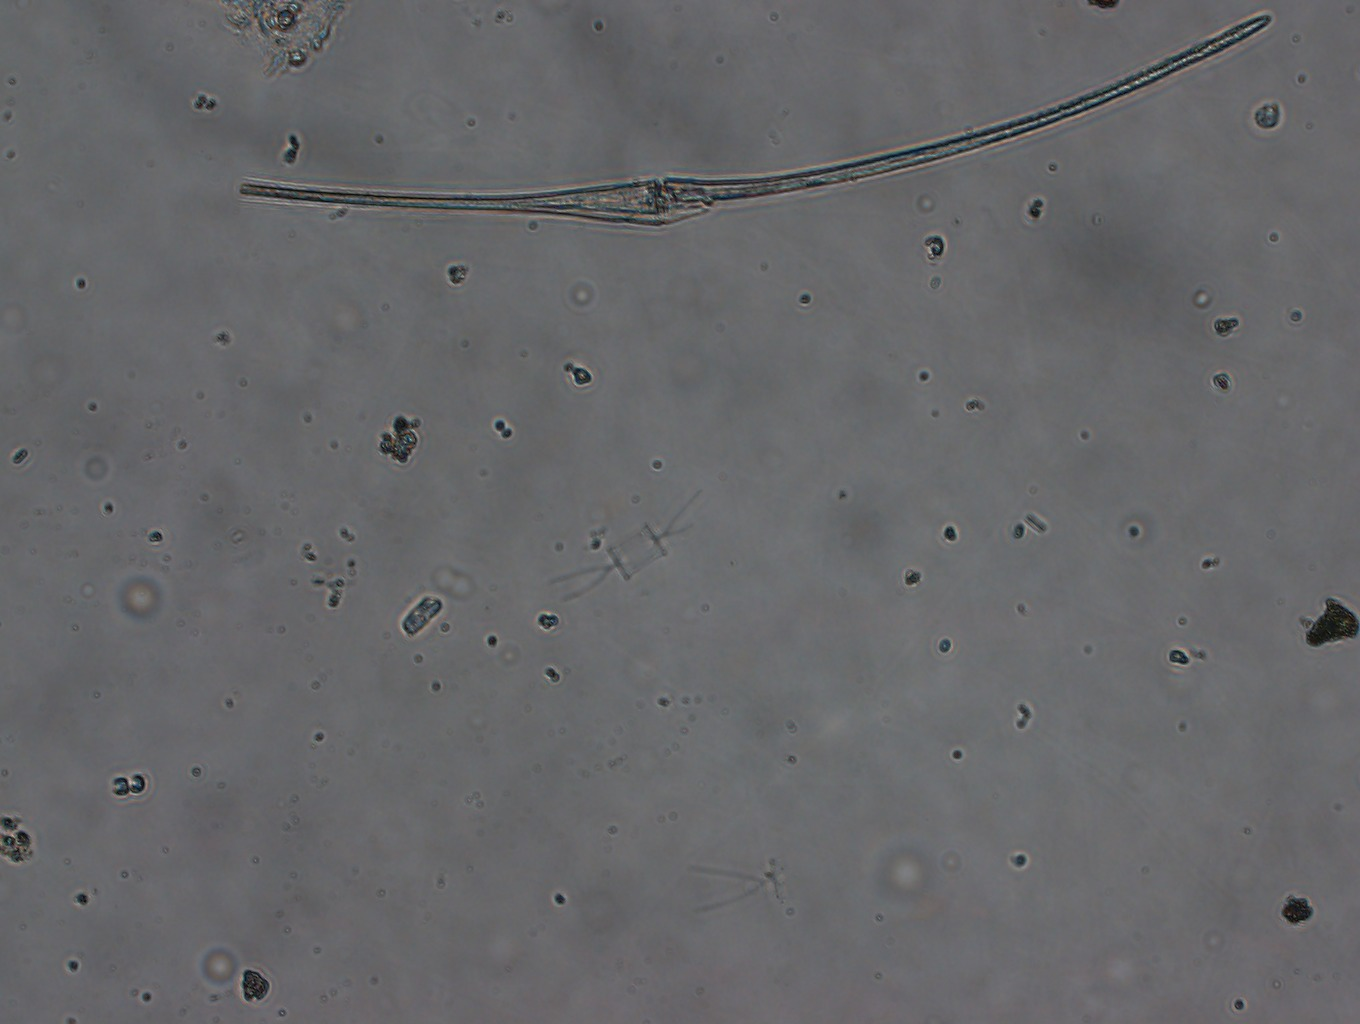ceratium fusus: (234, 1, 1277, 234)
